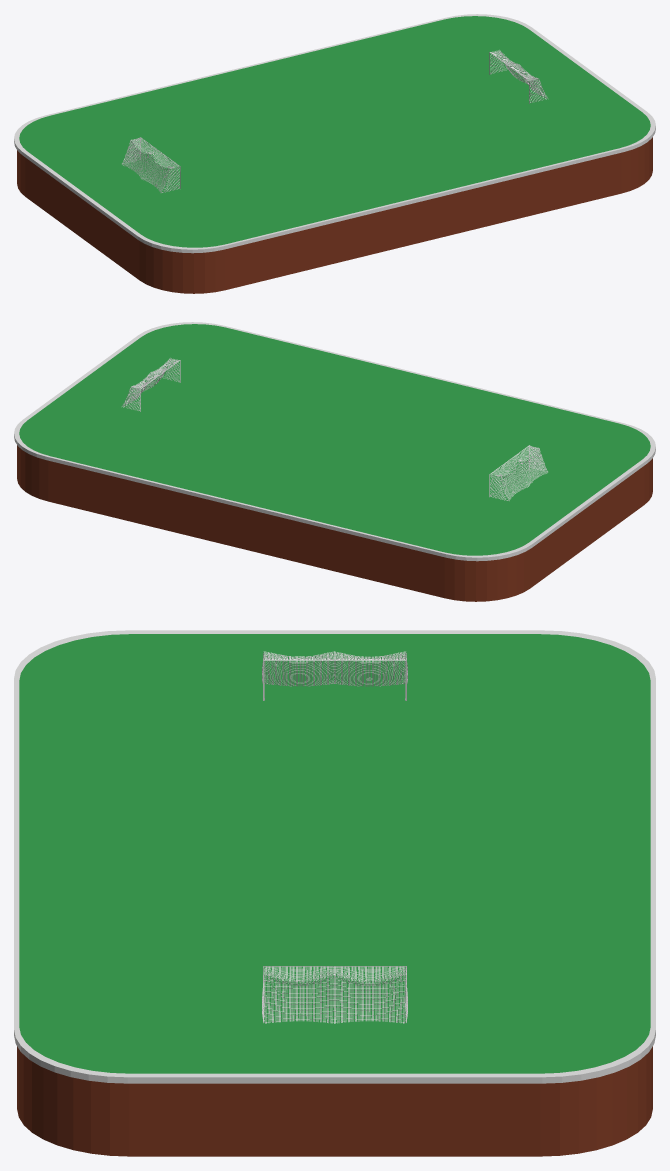
Rendered from football fielddd.fbx.
3 renders of one model, top to bottom at view 1: azimuth 30°, elevation 25°; view 2: azimuth 150°, elevation 25°; view 3: azimuth 270°, elevation 25°, orthographic. The views are drawn at different scales.
Visible parts, largest first — view 1: Cube, Cube.001; view 2: Cube, Cube.001; view 3: Cube, Cube.001.
Part boxes in pixels (bbox=[...]): Cube: bbox=[14, 14, 655, 293]; Cube.001: bbox=[122, 50, 548, 192]; Cube: bbox=[14, 322, 655, 601]; Cube.001: bbox=[121, 358, 547, 500]; Cube: bbox=[14, 630, 655, 1156]; Cube.001: bbox=[262, 651, 407, 1023].
Bounding box in the file's own units: 1413 × 180 × 858.
